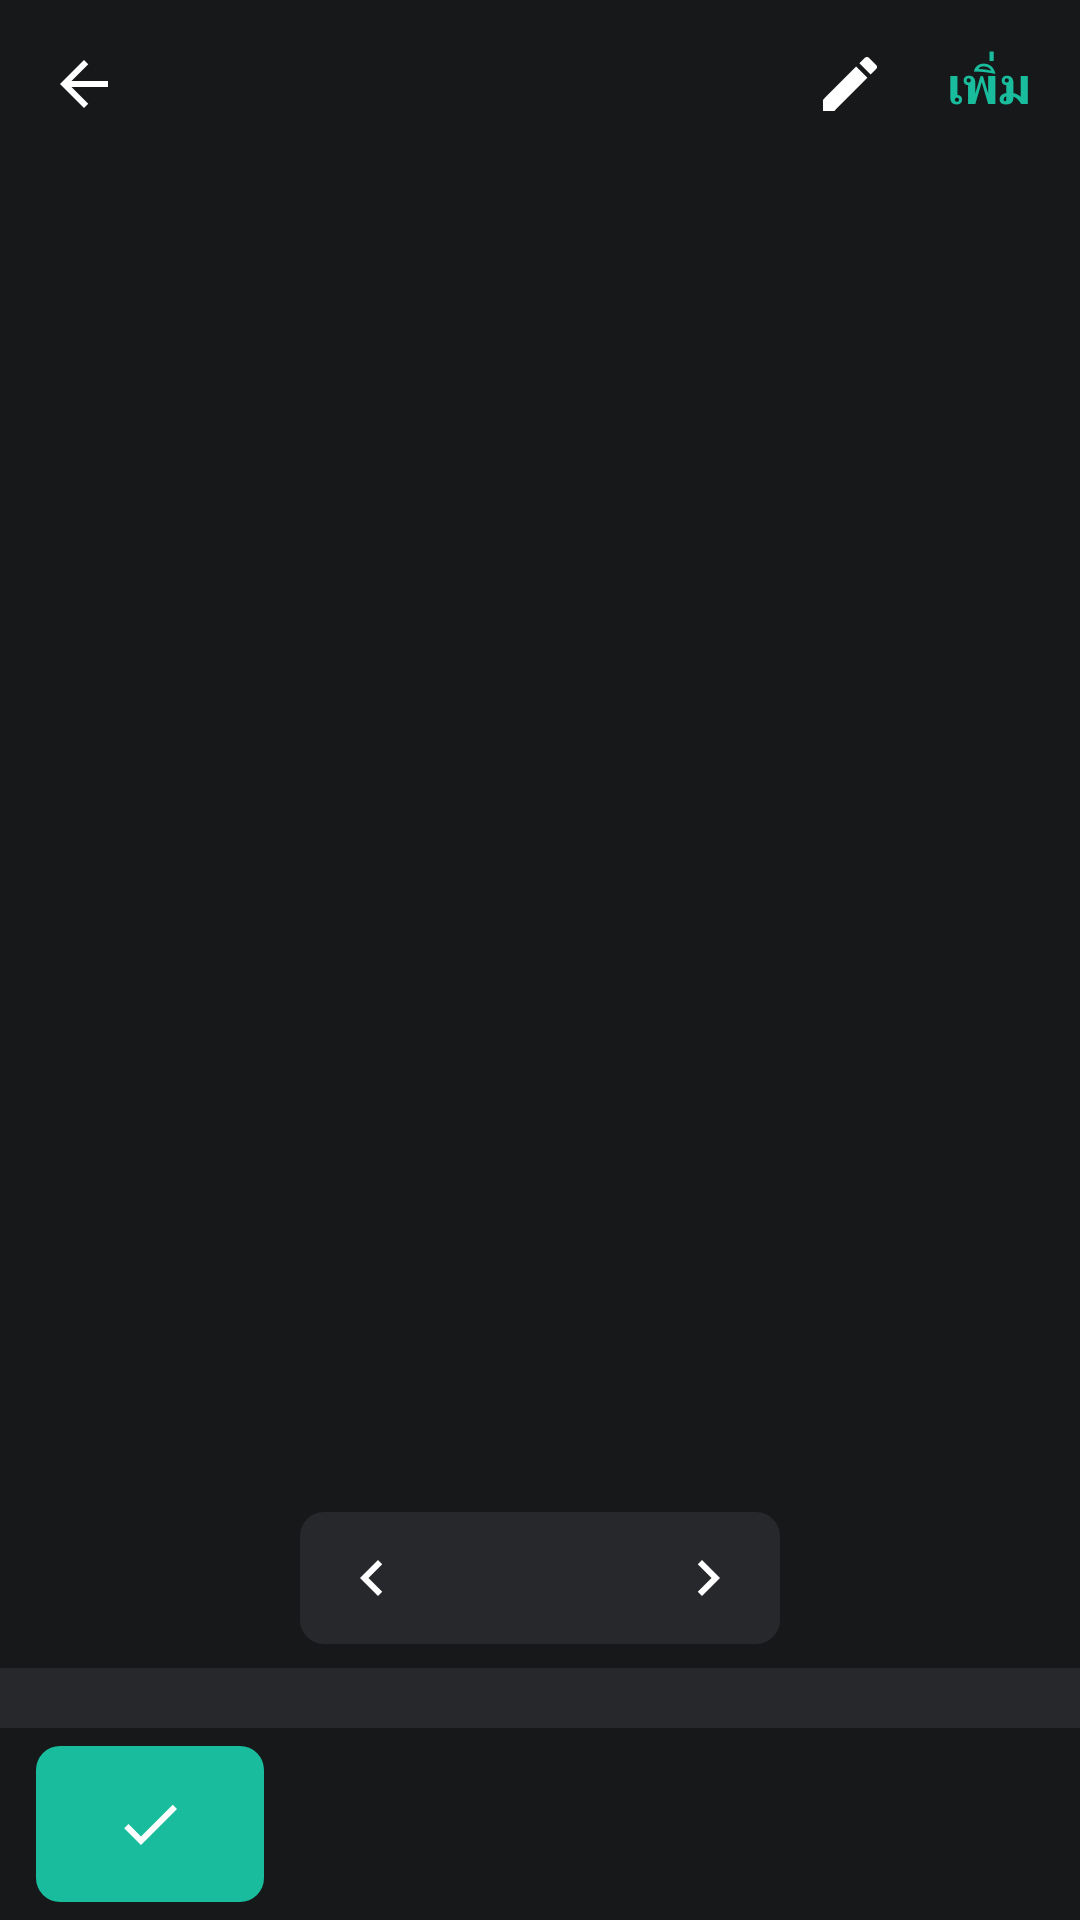

Icon bounding boxes for this 1080px x 1920px phone screenshot, format (x1, y1, x2, y2):
กลับ: (60, 60, 108, 108)
บันทึก: (36, 1746, 264, 1902)
หน้าก่อน: (300, 1512, 444, 1644)
หน้าถัดไป: (636, 1512, 780, 1644)
